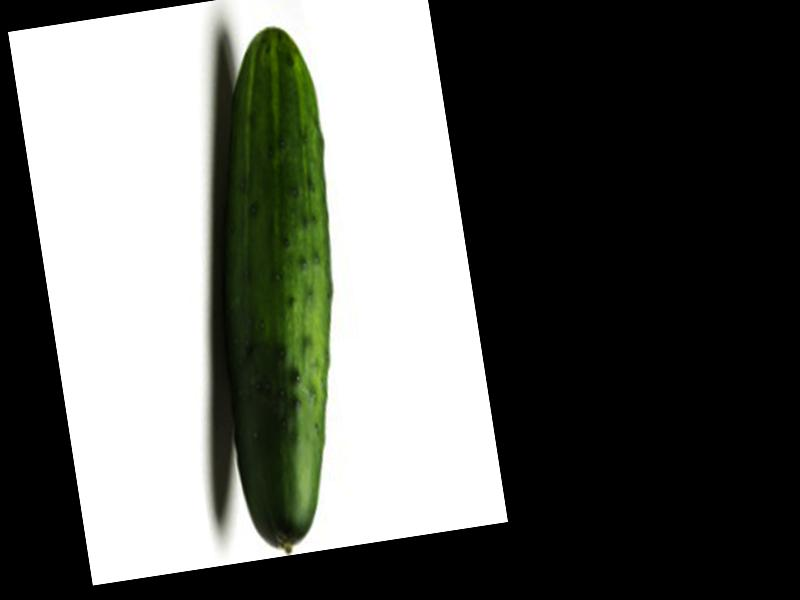Cucumber: (170, 24, 384, 559)
